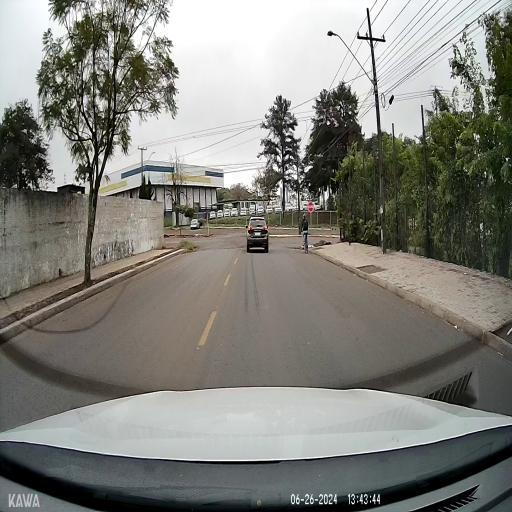R-1: (307, 202, 314, 214)
